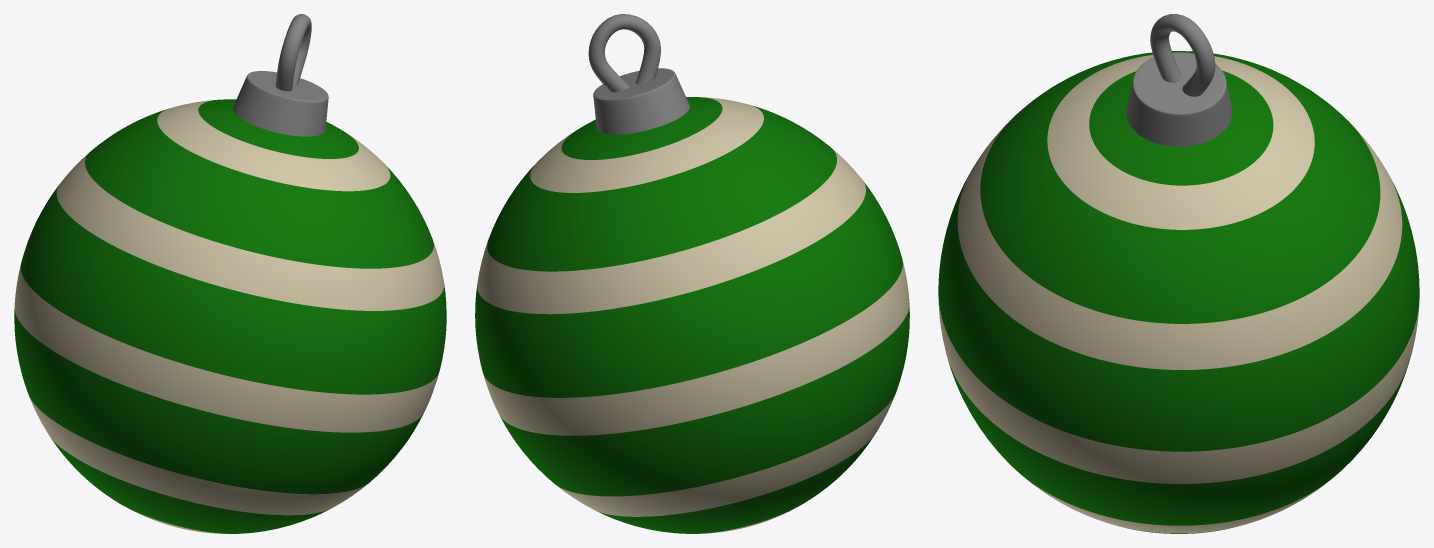
File: christmas ball green.obj
3 renders of one model, left to right at view 1: azimuth 30°, elevation 25°; view 2: azimuth 150°, elevation 25°; view 3: azimuth 270°, elevation 25°, orthographic. The views are drawn at different scales.
Visible parts, largest first — view 1: Sphere.002, Cylinder.005_Cylinder.002, Vert.003; view 2: Sphere.002, Cylinder.005_Cylinder.002, Vert.003; view 3: Sphere.002, Cylinder.005_Cylinder.002, Vert.003.
Part boxes in pixels (x1,y1,x2,y2): Sphere.002: [14, 99, 446, 533]; Cylinder.005_Cylinder.002: [232, 71, 328, 136]; Vert.003: [275, 14, 311, 91]; Sphere.002: [475, 97, 909, 533]; Cylinder.005_Cylinder.002: [593, 68, 689, 134]; Vert.003: [588, 14, 660, 92]; Sphere.002: [938, 51, 1419, 533]; Cylinder.005_Cylinder.002: [1126, 52, 1232, 146]; Vert.003: [1150, 14, 1215, 96].
Bounding box in the file's own units: 2.34 × 2.86 × 2.34.
